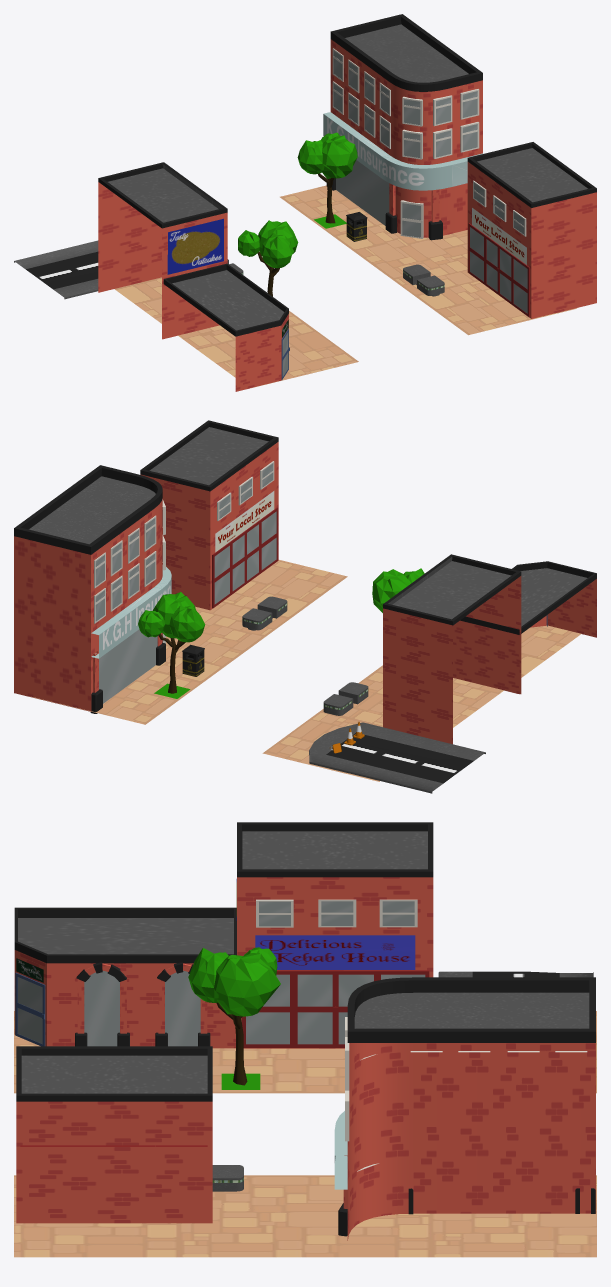
The model's file is First Module.fbx.
3 views of the same model, one above another, from view 1: azimuth 30°, elevation 25°; view 2: azimuth 150°, elevation 25°; view 3: azimuth 270°, elevation 25° (orthographic). The views are drawn at different scales.
Parts seen in each view (by area): view 1: Plane001; view 2: Plane001; view 3: Plane001.
Part boxes in pixels (box(x1,y1,x2,y2)): Plane001: box(14, 14, 596, 391); Plane001: box(14, 420, 596, 793); Plane001: box(14, 822, 596, 1257).
Bounding box in the file's own units: 1089 × 407 × 900.
